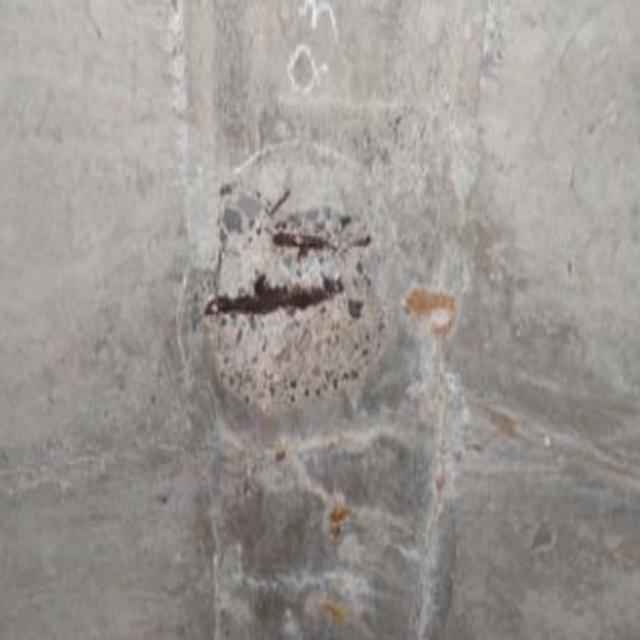spalling: (200, 164, 387, 434)
